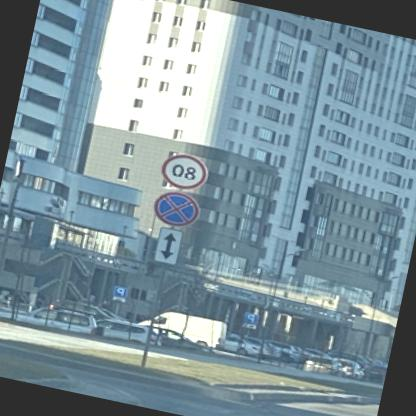speedlimit: (160, 150, 212, 192)
